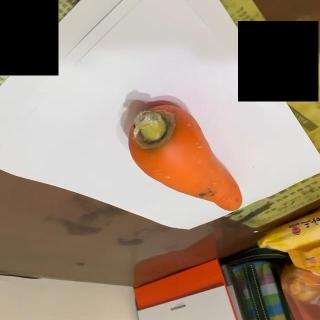carrot: (128, 102, 243, 212)
